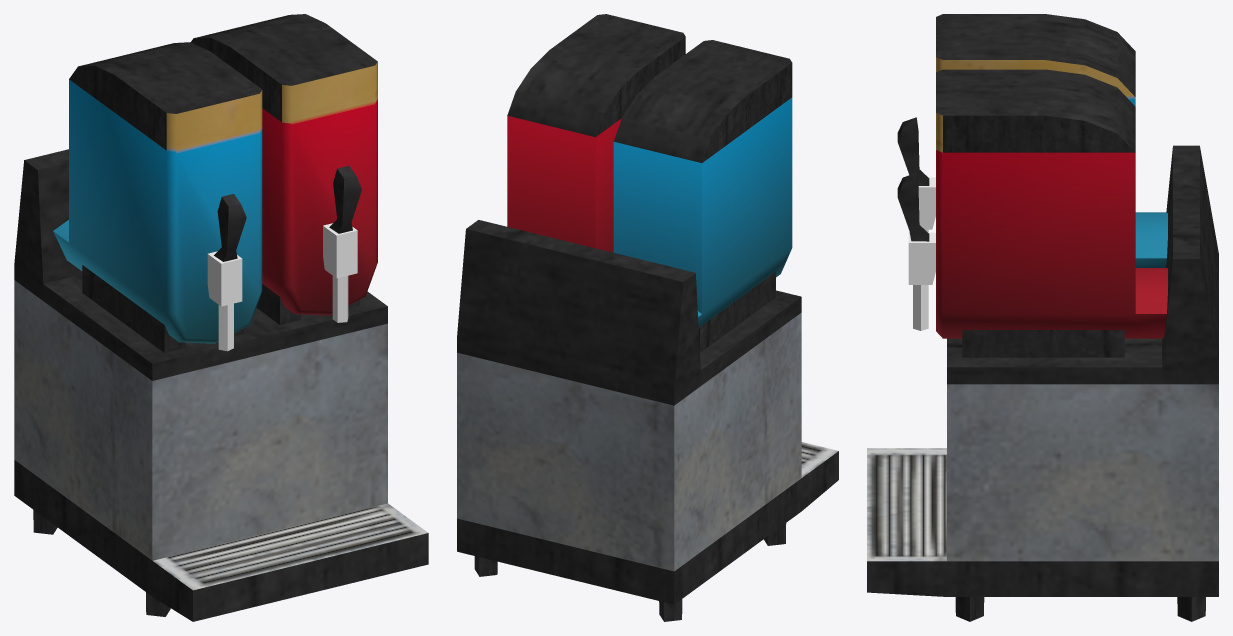
The model's file is gas_ice_slush_machine.fbx.
3 renders of one model, left to right at view 1: azimuth 30°, elevation 25°; view 2: azimuth 150°, elevation 25°; view 3: azimuth 270°, elevation 25°, orthographic. The views are drawn at different scales.
Visible parts, largest first — view 1: gas_ice_slush_machine; view 2: gas_ice_slush_machine; view 3: gas_ice_slush_machine.
Boxes of the visible parts, x1,y1,x2,y2 form: gas_ice_slush_machine: (14,14,428,621); gas_ice_slush_machine: (457,14,838,621); gas_ice_slush_machine: (867,14,1218,621).
Size of the model in its own units: 0.4862 by 1.01 by 0.6382.
Materials: 1 (1 with a texture image).
